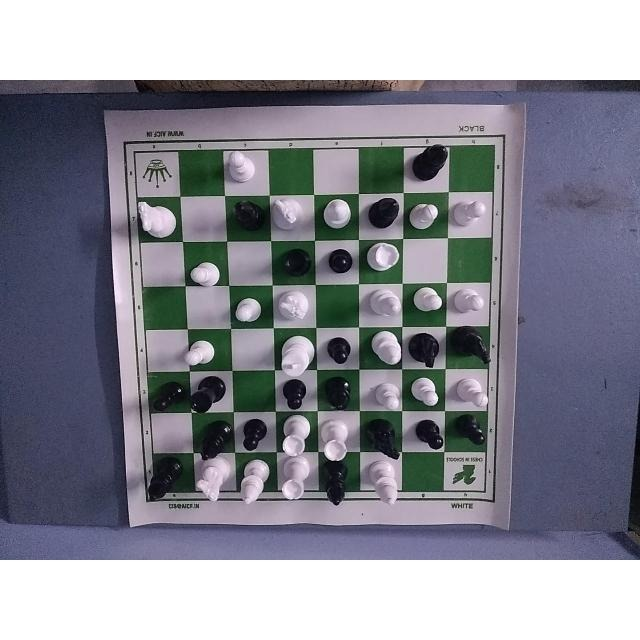black-bishop: (409, 138, 453, 186), (145, 456, 187, 505), (227, 198, 269, 242), (319, 459, 352, 509), (196, 418, 233, 462)
black-knight: (449, 328, 497, 368), (365, 418, 405, 461), (409, 328, 444, 373), (147, 376, 187, 415)
black-pawn: (319, 328, 357, 371), (454, 415, 491, 453), (234, 414, 270, 453), (412, 417, 448, 455), (278, 374, 314, 410), (323, 245, 355, 281)
black-rook: (363, 191, 403, 239), (273, 242, 317, 282), (189, 376, 227, 416)
white-bishop: (360, 285, 408, 331), (365, 455, 406, 507), (361, 326, 405, 372), (320, 192, 359, 239), (239, 456, 271, 508)
white-king: (274, 326, 319, 376)
white-knight: (131, 198, 175, 244), (194, 454, 232, 506), (270, 194, 314, 238), (361, 284, 407, 324), (366, 329, 404, 376), (274, 287, 314, 325)
white-pawn: (408, 194, 448, 238), (449, 282, 490, 324), (222, 147, 261, 189), (453, 192, 487, 236), (182, 330, 219, 370), (411, 371, 447, 410), (411, 283, 447, 321), (452, 376, 492, 410), (186, 254, 222, 290), (228, 291, 262, 329), (372, 379, 404, 413)
white-rook: (357, 240, 404, 283), (275, 457, 315, 503), (274, 415, 314, 459), (317, 419, 354, 461)
